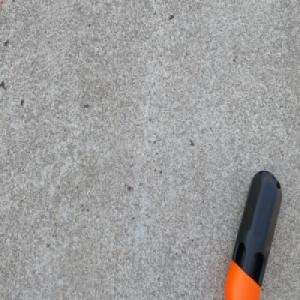PlasticPart: (223, 168, 282, 300)
